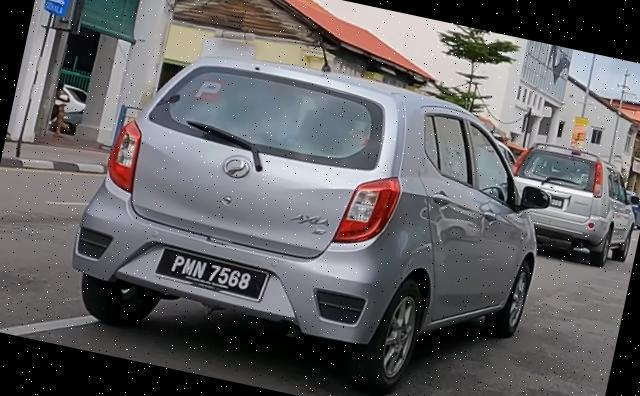License_Plate: (152, 245, 272, 305)
car: (56, 26, 568, 396)
